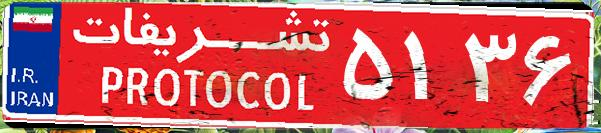1: (400, 20, 460, 115)
3: (460, 20, 520, 115)
5: (340, 20, 400, 115)
6: (520, 20, 580, 115)
تشریفات: (60, 8, 340, 125)
